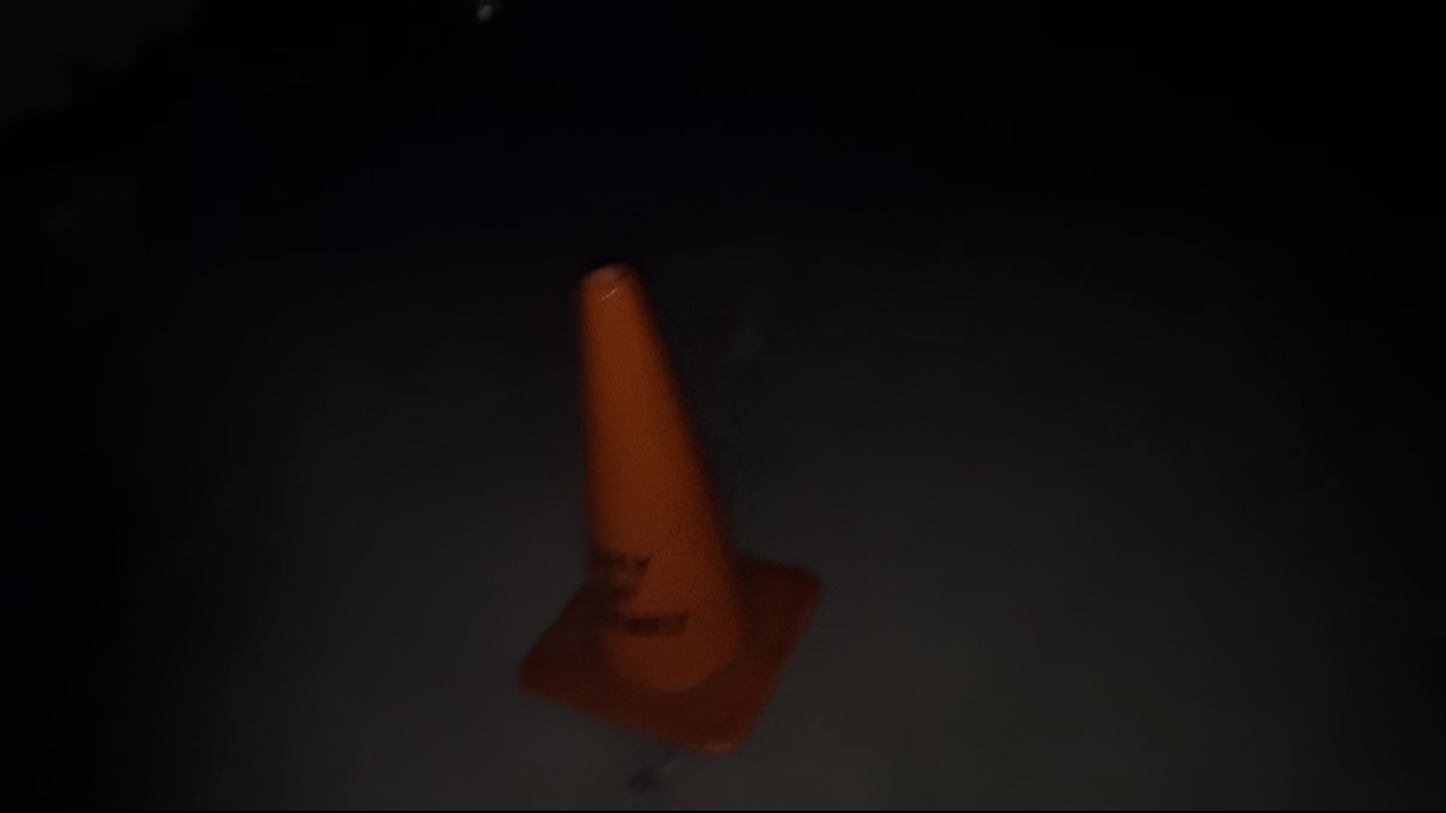traffic_cone: (516, 260, 823, 756)
